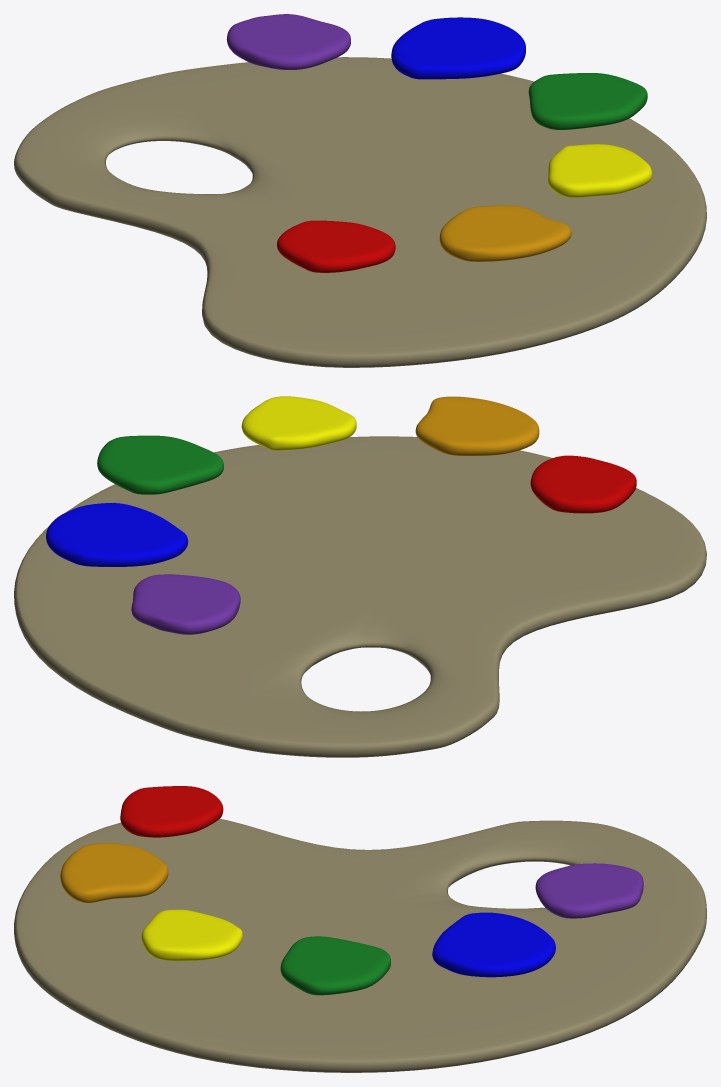
Rendered from pallet.mod1.fbx.
3 renders of one model, top to bottom at view 1: azimuth 30°, elevation 25°; view 2: azimuth 150°, elevation 25°; view 3: azimuth 270°, elevation 25°, orthographic. The views are drawn at different scales.
Visible parts, largest first — view 1: polySurface2, pDisc6, pDisc3, pDisc5, pDisc7, pDisc2, pDisc4; view 2: polySurface2, pDisc6, pDisc5, pDisc3, pDisc7, pDisc2, pDisc4; view 3: polySurface2, pDisc6, pDisc3, pDisc5, pDisc7, pDisc2, pDisc4.
Boxes of the visible parts, <box> form: polySurface2: <box>14,57,706,367</box>; pDisc6: <box>391,17,525,79</box>; pDisc3: <box>439,205,571,261</box>; pDisc5: <box>528,73,647,129</box>; pDisc7: <box>226,14,350,69</box>; pDisc2: <box>277,220,395,272</box>; pDisc4: <box>548,144,652,197</box>; polySurface2: <box>14,436,706,757</box>; pDisc6: <box>46,503,188,566</box>; pDisc5: <box>97,435,223,494</box>; pDisc3: <box>415,396,539,455</box>; pDisc7: <box>131,574,240,634</box>; pDisc2: <box>530,455,636,513</box>; pDisc4: <box>241,396,356,450</box>; polySurface2: <box>14,819,706,1072</box>; pDisc6: <box>432,912,555,977</box>; pDisc3: <box>60,843,168,902</box>; pDisc5: <box>280,936,390,995</box>; pDisc7: <box>535,863,643,918</box>; pDisc2: <box>120,786,223,837</box>; pDisc4: <box>141,909,242,960</box>.
Size of the model in its own units: 32.59 by 4.75 by 38.5.
